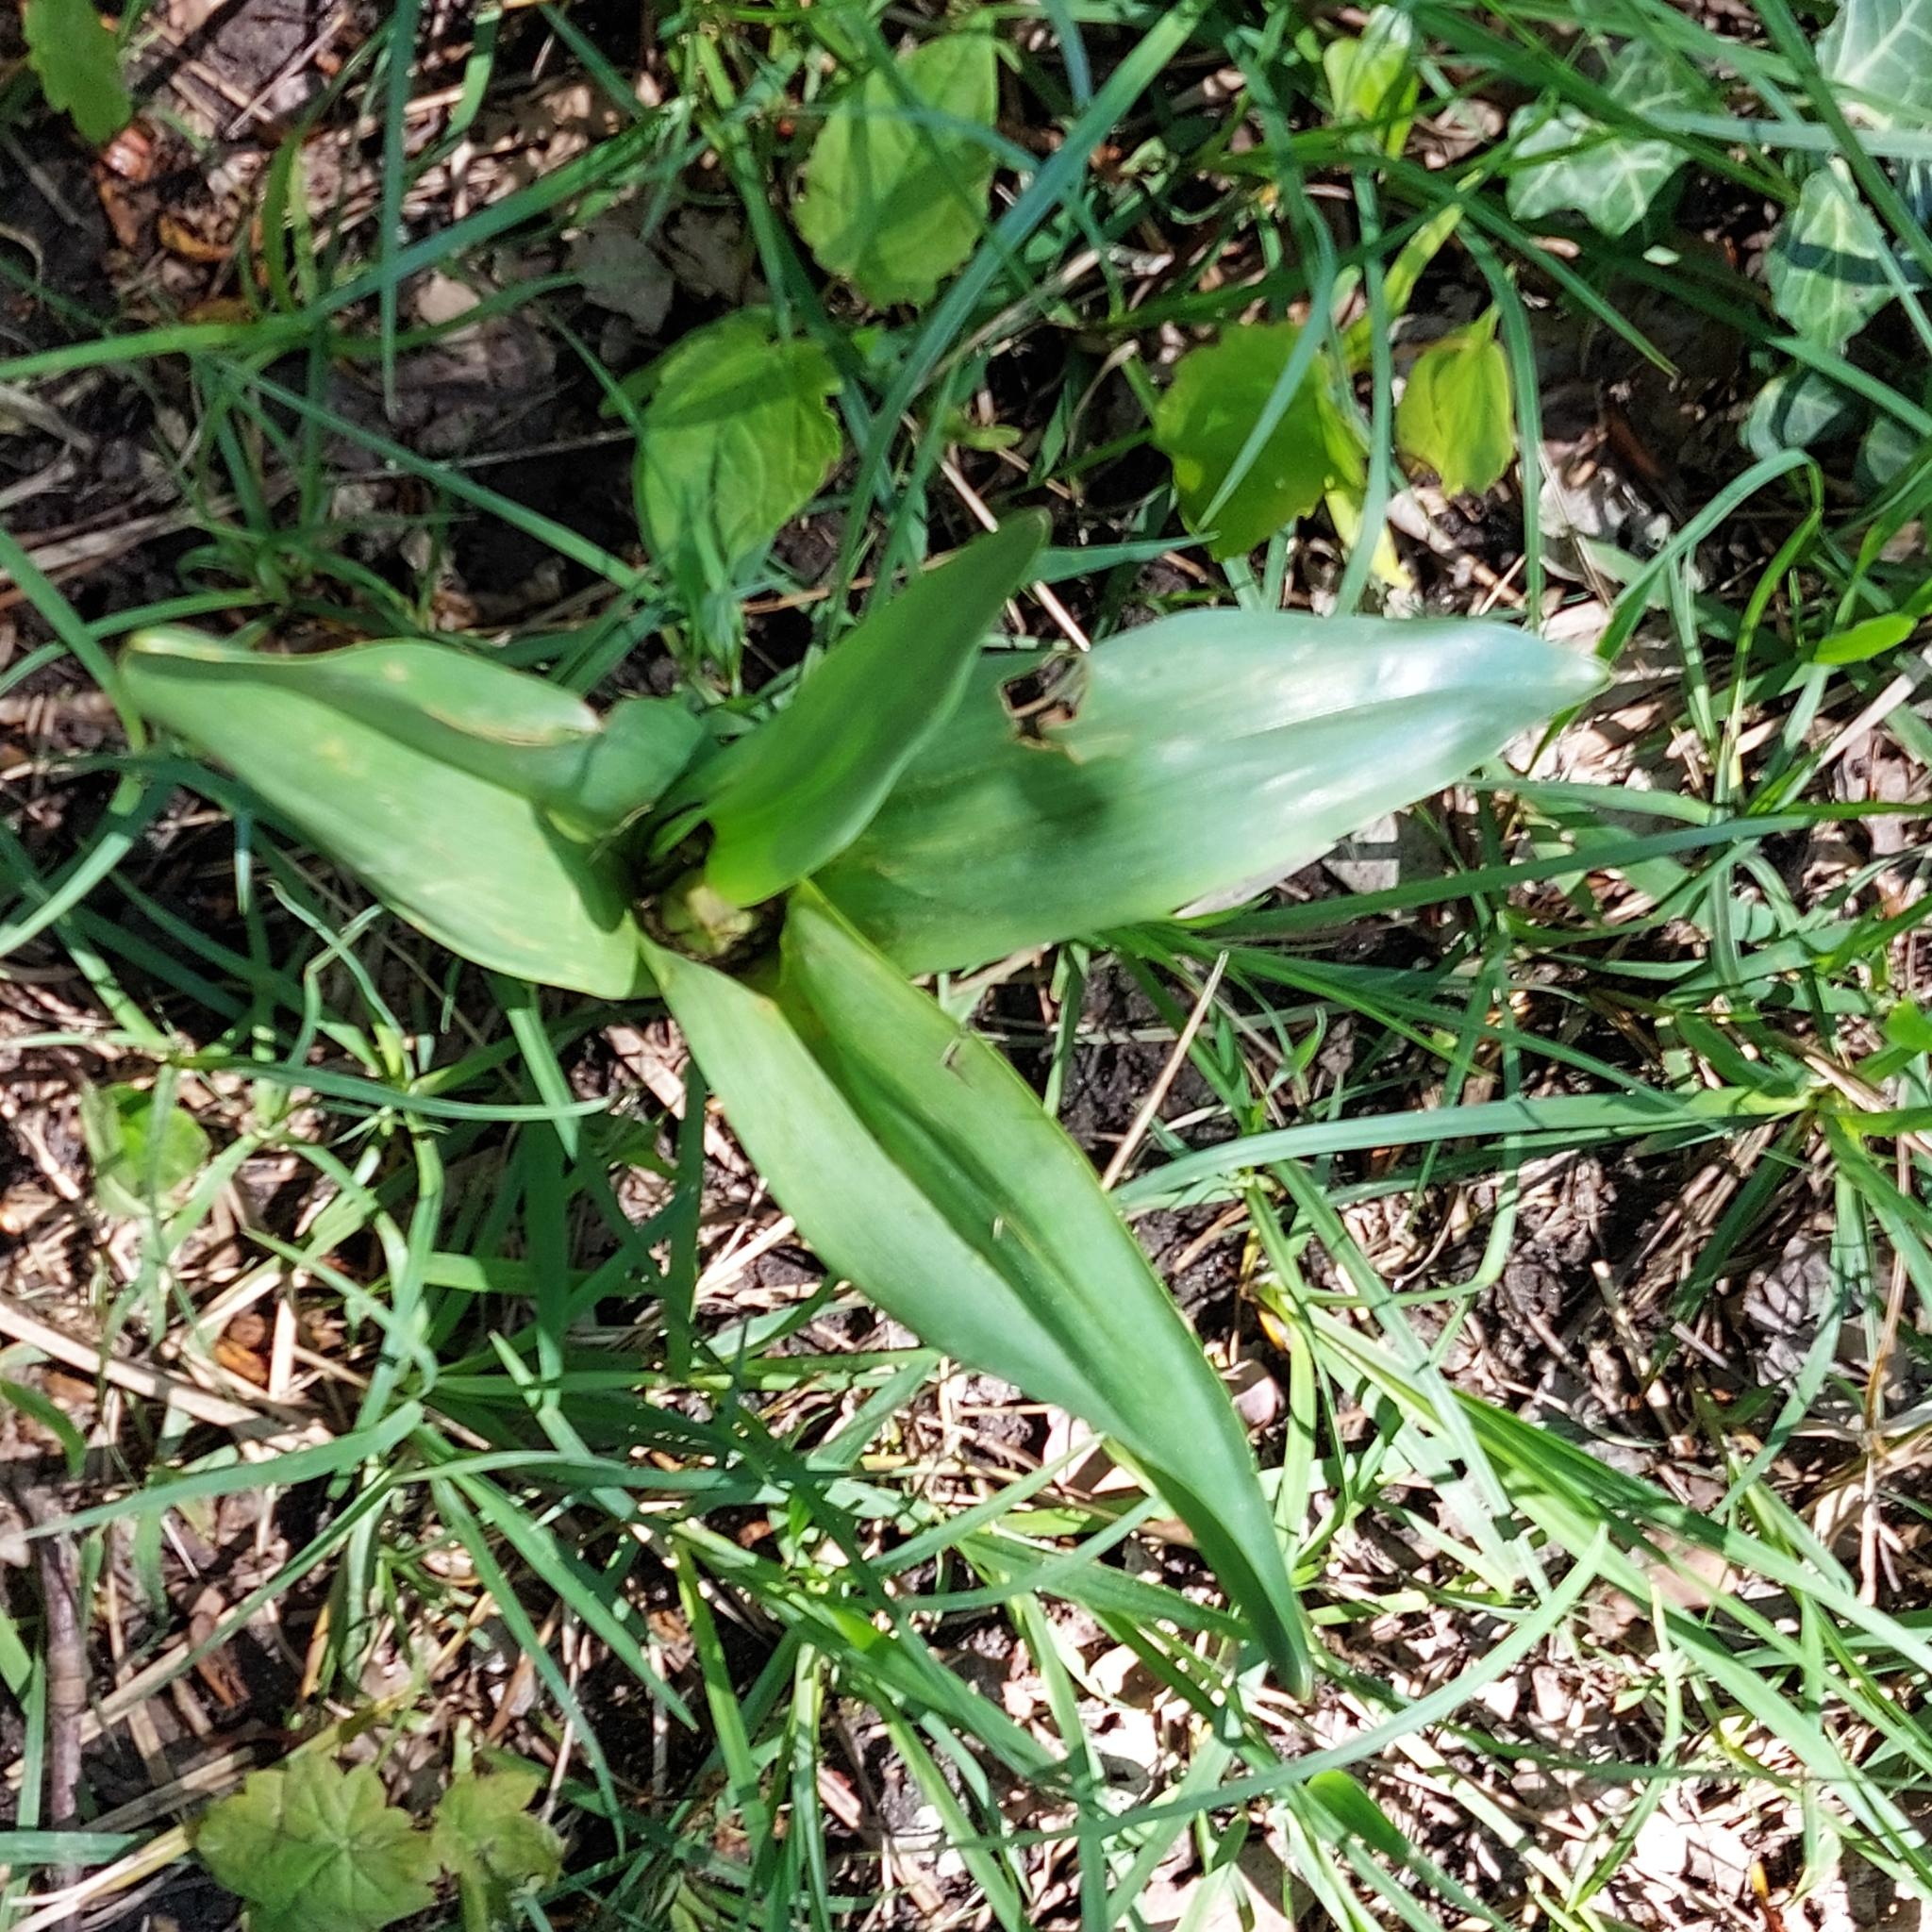Colchicum autumnale L: (120, 508, 1642, 1698)
